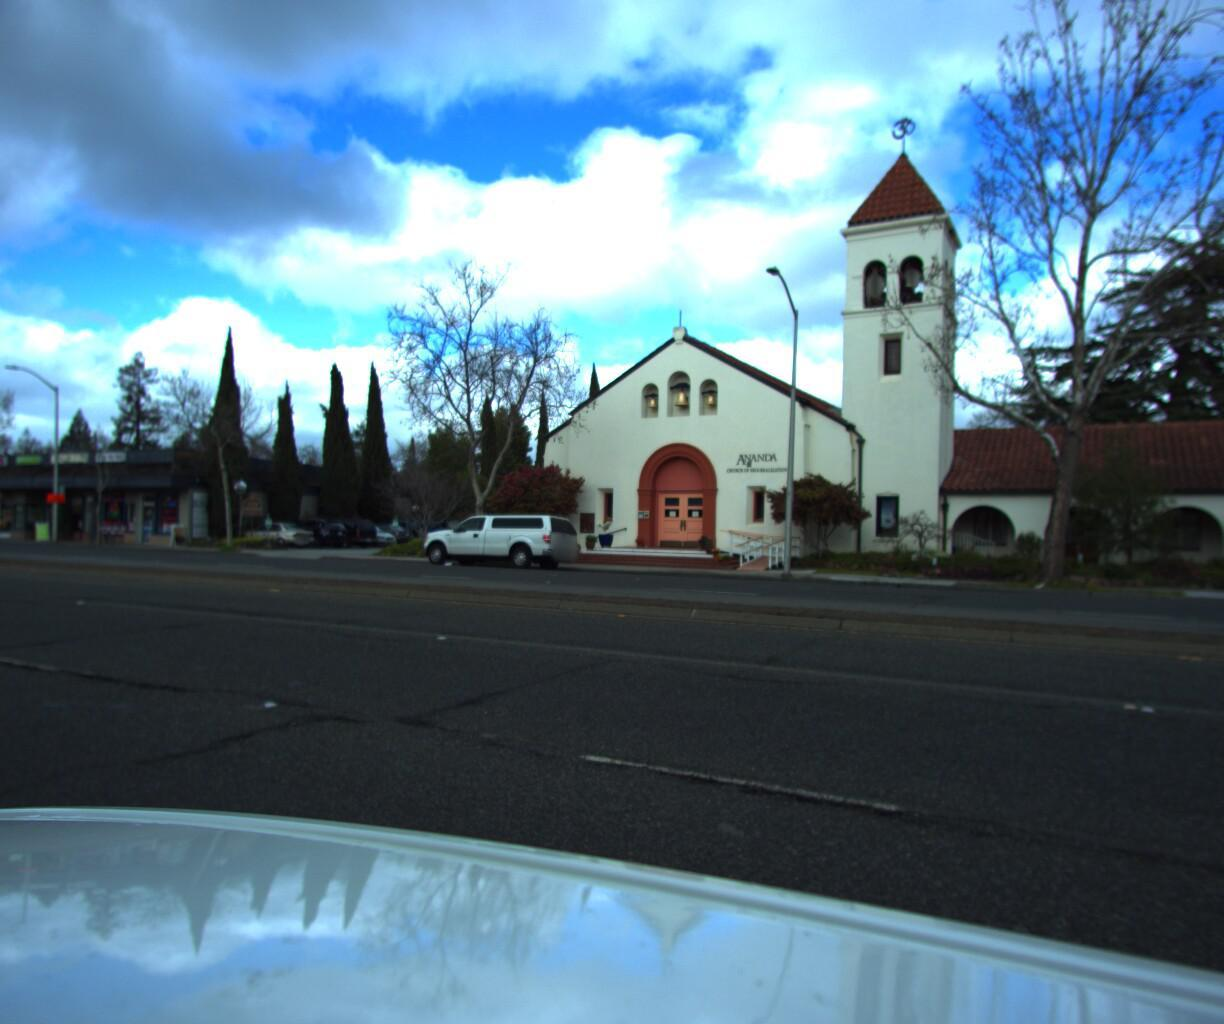bicycle: (85, 522, 120, 541)
car: (408, 507, 583, 573), (226, 515, 319, 548), (263, 513, 353, 545), (296, 513, 382, 544)
